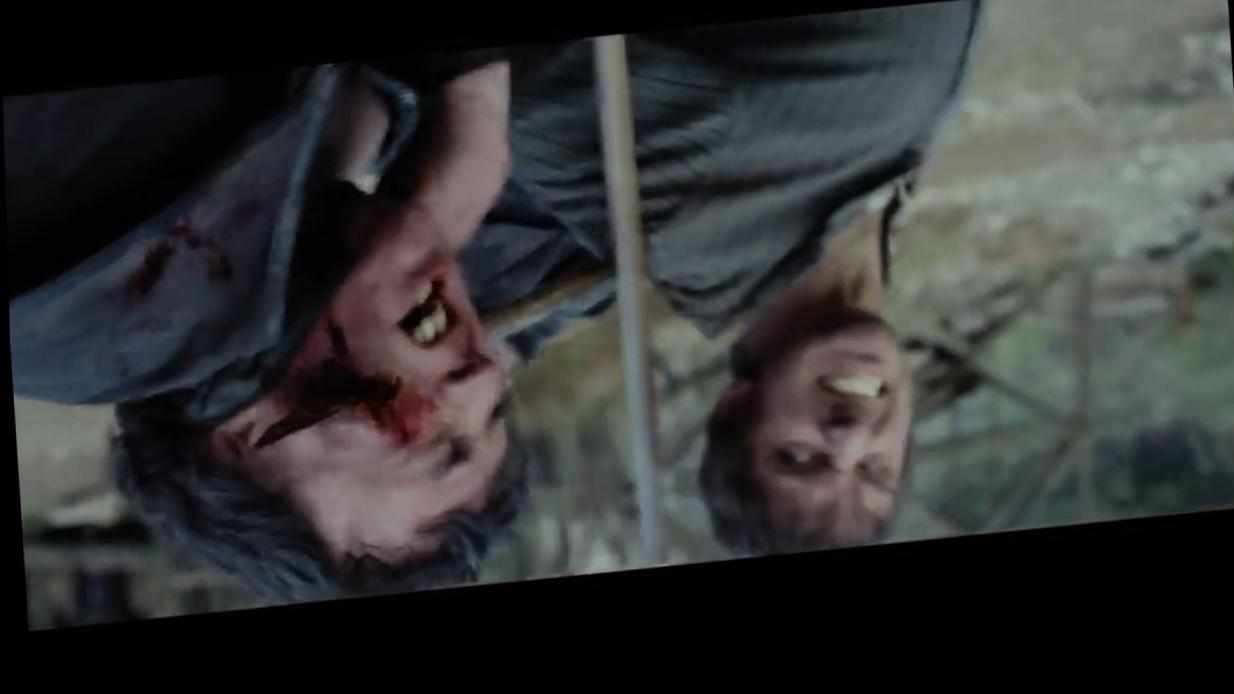Fire: (252, 304, 438, 453), (120, 205, 259, 312)
